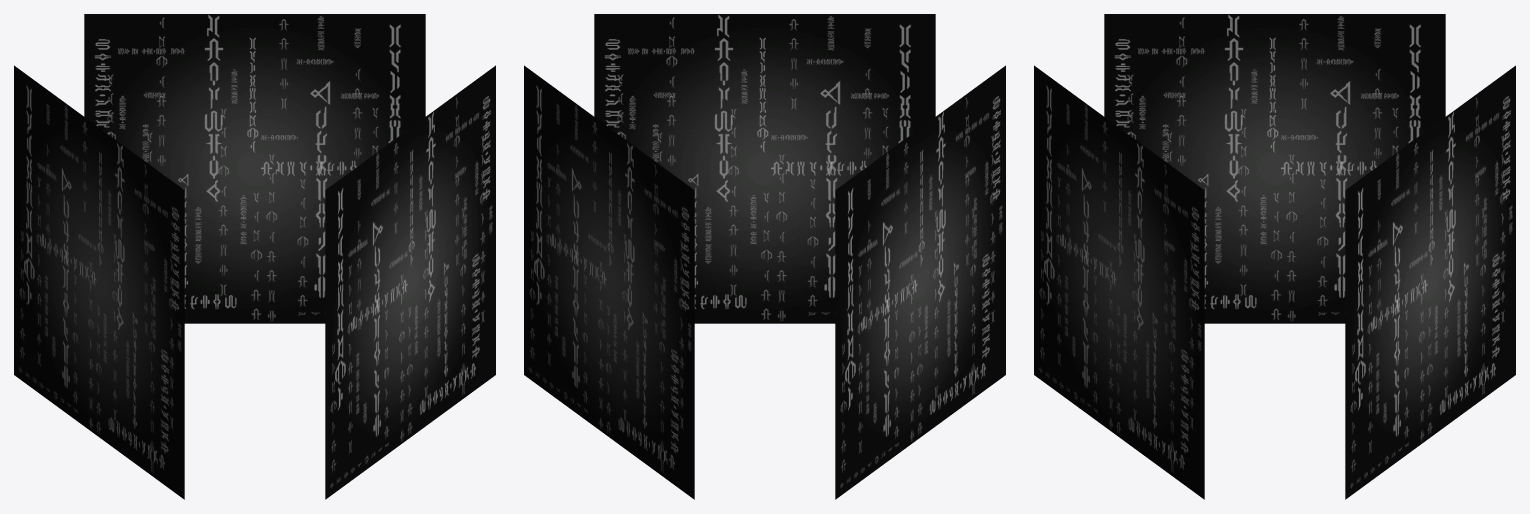
Rendered from fx_donghuangzhong_fazou_mesh.fbx.
The picture shows the model from 3 angles, left to right: view 1: azimuth 30°, elevation 25°; view 2: azimuth 150°, elevation 25°; view 3: azimuth 270°, elevation 25°; orthographic projection.
Visible parts, largest first — view 1: fx_donghuangzhong_fuzou; view 2: fx_donghuangzhong_fuzou; view 3: fx_donghuangzhong_fuzou.
Boxes of the visible parts, x1,y1,x2,y2 form: fx_donghuangzhong_fuzou: (14, 14, 495, 499); fx_donghuangzhong_fuzou: (524, 14, 1005, 499); fx_donghuangzhong_fuzou: (1034, 14, 1515, 499).
Bounding box in the file's own units: 42.51 × 34.79 × 49.08.
